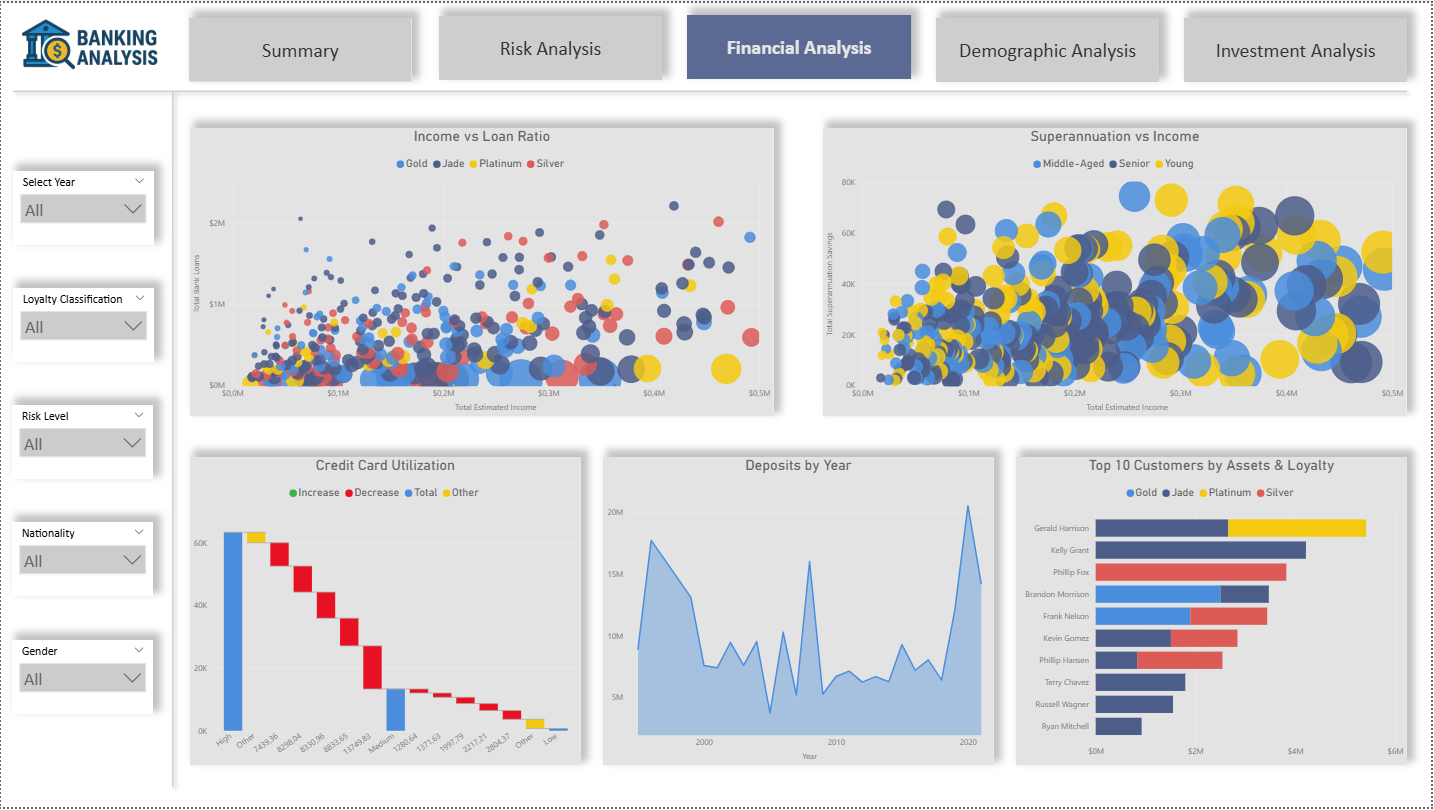

The page's visual inventory and layout, read from the dashboard file:
{"tool":"powerbi","page":{"name":"Financial Overview","canvas":[1920,1080],"ordinal":2},"visuals":[{"type":"actionButton","title":"Risk_Inactive","box":[587.9,17.8,299.8,86],"z":0},{"type":"shape","title":"Vertical_Line","box":[208,108.4,45.2,953.6],"z":1000},{"type":"slicer","title":"Year_Slicer","fields":{"Values":["Dim_Year.Year Joined"]},"box":[16.5,225,189,100],"z":2000},{"type":"slicer","title":"Loyalty_Slicer","fields":{"Values":["Dim_Loyalty.Loyalty Classification"]},"box":[15.9,382.6,189.6,100],"z":3000},{"type":"slicer","title":"Risk_Slicer","fields":{"Values":["Dim_Risk.Risk Level"]},"box":[15.4,540.2,189.6,100],"z":4000},{"type":"slicer","title":"Nationalty_Slicer","fields":{"Values":["Dim_Nationality.Nationality"]},"box":[14.8,697.8,189.6,100],"z":5000},{"type":"slicer","title":"Gender_Slicer","fields":{"Values":["Dim_Gender.GenderId"]},"box":[14.3,855.4,189.6,100],"z":6000},{"type":"actionButton","title":"Demographic_Inactive","box":[1255.3,20.3,299.8,86],"z":9000},{"type":"actionButton","title":"Investment_Inactive","box":[1589.3,20.3,299.8,86],"z":10000},{"type":"shape","title":"Horizontal_Line 01","box":[7.1,105.7,1891.3,25.3],"z":11000},{"type":"image","title":"Banking _Logo","box":[0.5,-2,240.7,125],"z":12000},{"type":"actionButton","title":"Summary_Inactive","box":[252.4,20.3,299.5,85.6],"z":14000},{"type":"stackedAreaChart","title":"Deposits by Year","fields":{"Category":["Banking.Joined Bank.Variation.Date Hierarchy.Year"],"Y":["MeasuresTable.Total Deposites"]},"box":[808.6,609.8,525,413.7],"z":15000},{"type":"scatterChart","title":"Income vs Loan Ratio","fields":{"X":["MeasuresTable.Total Estimated Income"],"Size":["MeasuresTable.Income to Loan Ratio"],"Category":["Banking.Bank Loans"],"Series":["Dim_Loyalty.Loyalty Classification"],"Y":["MeasuresTable.Total Bank Loans"]},"box":[253.8,167.9,784.5,386.9],"z":16000},{"type":"waterfallChart","title":"Credit Card Utilization","fields":{"Category":["Banking.CC Balance Tier"],"Y":["MeasuresTable.Total Credit Card Balance"],"Breakdown":["Banking.Credit Card Balance"]},"box":[253.8,609.8,525,413.7],"z":17000},{"type":"actionButton","title":"Financial_Active","box":[921.5,15.9,301.1,86.3],"z":18000},{"type":"barChart","title":"Top 10 Customers by Assets & Loyalty","fields":{"Category":["Dim_Customer.Name"],"Y":["MeasuresTable.Total Assets"],"Series":["Dim_Loyalty.Loyalty Classification"]},"box":[1363.3,609.8,525.2,413.7],"z":19000},{"type":"scatterChart","title":"Superannuation vs Income","fields":{"Category":["Banking.Superannuation Savings"],"X":["MeasuresTable.Total Estimated Income"],"Series":["Dim_Age.Age Group Name"],"Size":["MeasuresTable.Total Estimated Income"],"Y":["MeasuresTable.Total Superannuation Savings"]},"box":[1104.1,167.9,784.5,386.9],"z":20000}]}

Visuals, with their boxes in screenshot pixels (x1, y1, x2, y2), scaled from the page's 1920x1080 canvas onto the 1434x810 screenshot:
"Risk_Inactive" actionButton: (439,13,663,78)
"Vertical_Line" shape: (155,81,189,796)
"Year_Slicer" slicer: (12,169,153,244)
"Loyalty_Slicer" slicer: (12,287,153,362)
"Risk_Slicer" slicer: (12,405,153,480)
"Nationalty_Slicer" slicer: (11,523,153,598)
"Gender_Slicer" slicer: (11,642,152,717)
"Demographic_Inactive" actionButton: (938,15,1161,80)
"Investment_Inactive" actionButton: (1187,15,1411,80)
"Horizontal_Line 01" shape: (5,79,1418,98)
"Banking _Logo" image: (0,0,180,92)
"Summary_Inactive" actionButton: (189,15,412,79)
"Deposits by Year" stackedAreaChart: (604,457,996,768)
"Income vs Loan Ratio" scatterChart: (190,126,775,416)
"Credit Card Utilization" waterfallChart: (190,457,582,768)
"Financial_Active" actionButton: (688,12,913,77)
"Top 10 Customers by Assets & Loyalty" barChart: (1018,457,1410,768)
"Superannuation vs Income" scatterChart: (825,126,1411,416)
